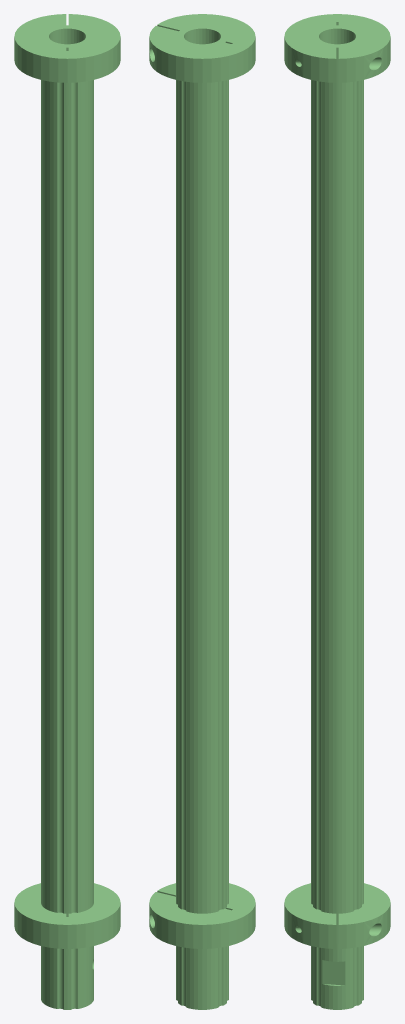
3 renders of one model, left to right at view 1: azimuth 90°, elevation 25°; view 2: azimuth 150°, elevation 25°; view 3: azimuth 270°, elevation 25°, orthographic.
Visible parts, largest first — view 1: IRB_910SC_IRC5C_shaft_450_rev0; view 2: IRB_910SC_IRC5C_shaft_450_rev0; view 3: IRB_910SC_IRC5C_shaft_450_rev0.
Boxes of the visible parts, x1=… form: IRB_910SC_IRC5C_shaft_450_rev0: x1=14, y1=14, x2=120, y2=1009; IRB_910SC_IRC5C_shaft_450_rev0: x1=149, y1=14, x2=255, y2=1009; IRB_910SC_IRC5C_shaft_450_rev0: x1=284, y1=14, x2=390, y2=1009.
Bounding box in the file's own units: 39.99 × 400 × 40.
Materials: 1 (1 with a texture image).
